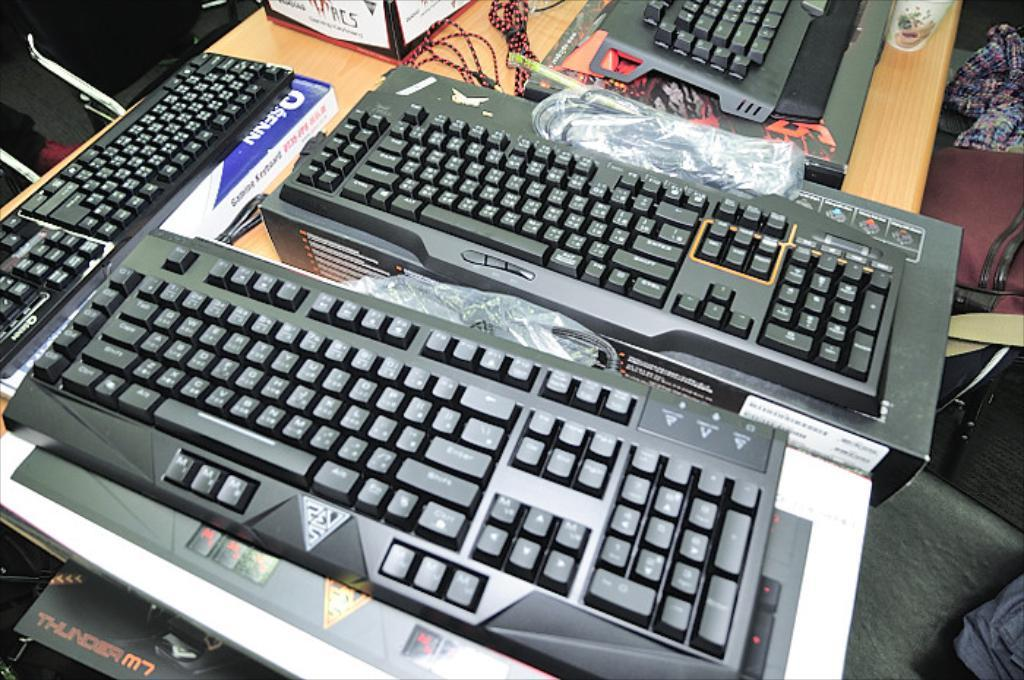Computer-keyboard: (0, 224, 787, 679), (279, 88, 908, 417), (0, 53, 295, 377), (588, 0, 860, 126)
